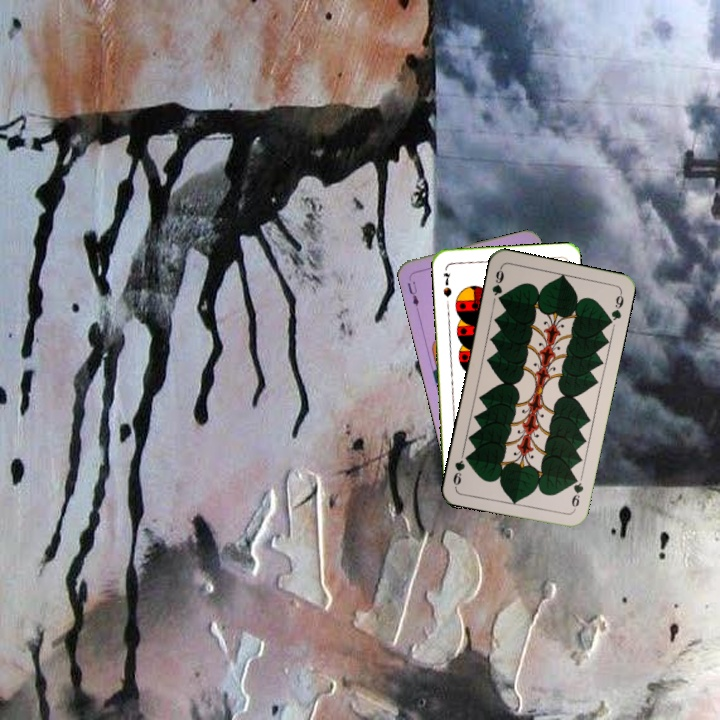EU: (403, 273, 421, 309)
G9: (567, 472, 586, 513), (488, 264, 506, 305)
S7: (439, 269, 454, 300)
